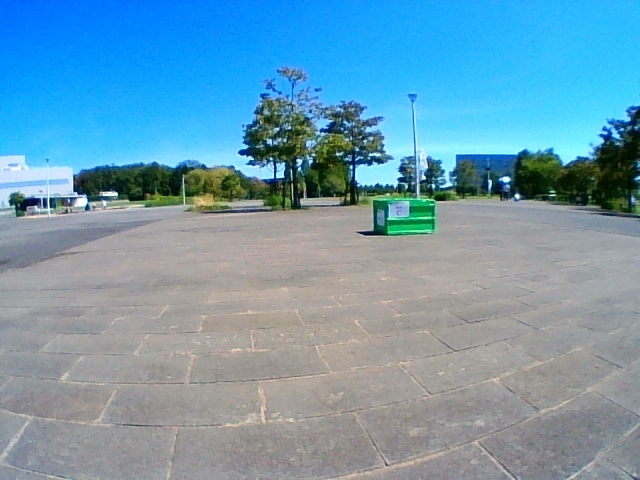green_box: (375, 198, 435, 234)
tag: (389, 201, 407, 218)
